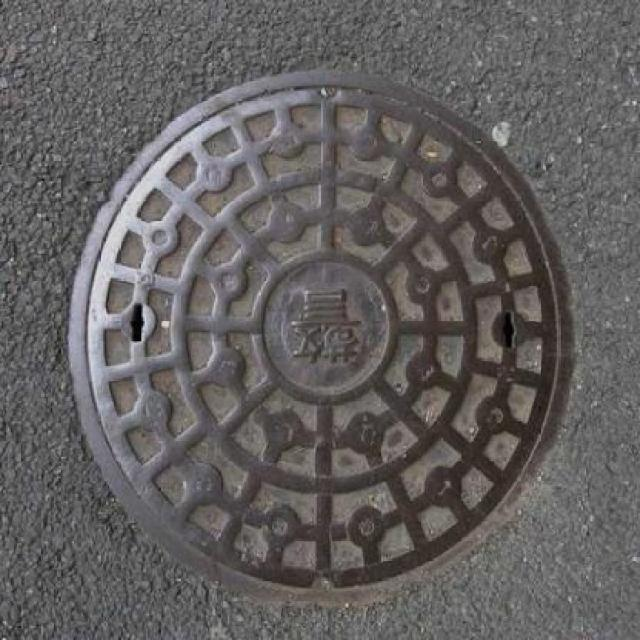Manhole: (58, 56, 592, 616)
